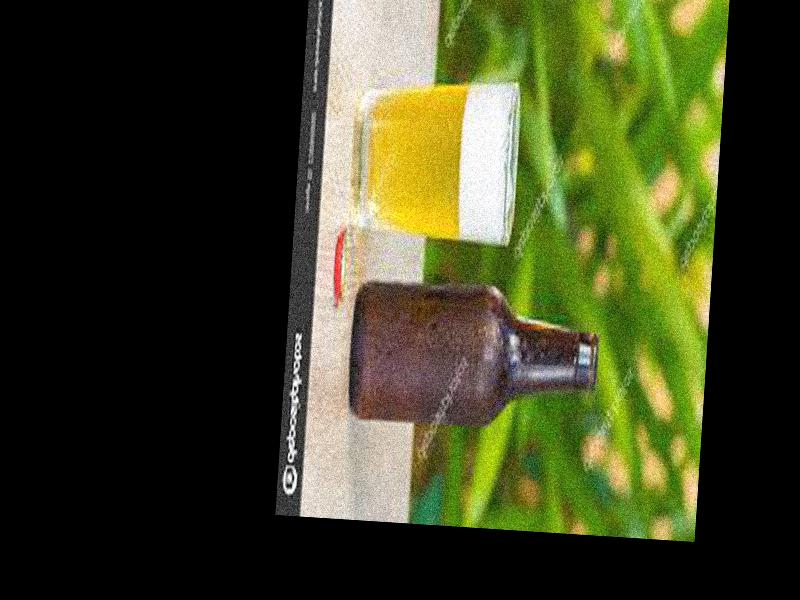Beer: (345, 279, 600, 427)
